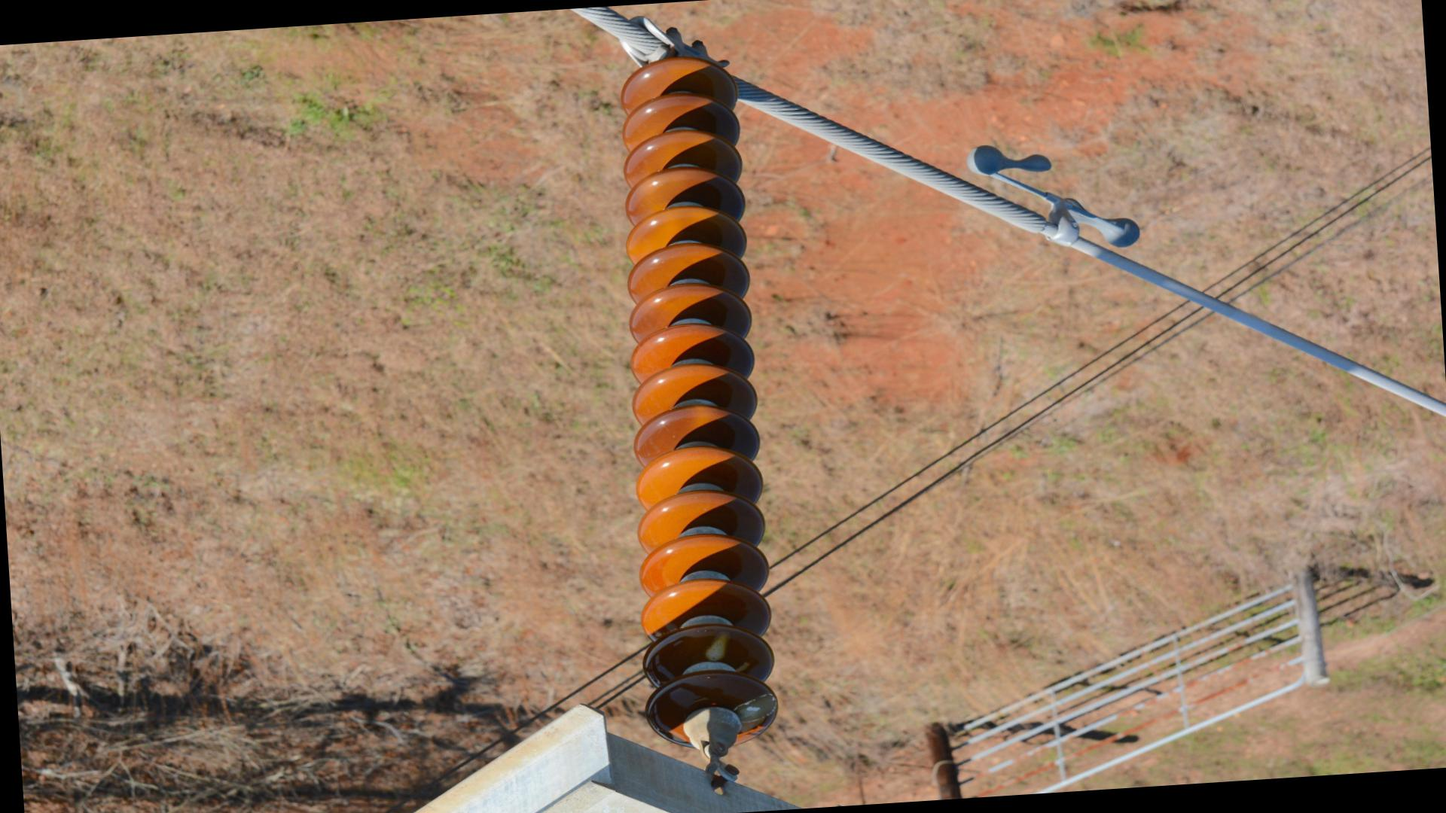damper: (960, 131, 1146, 262)
